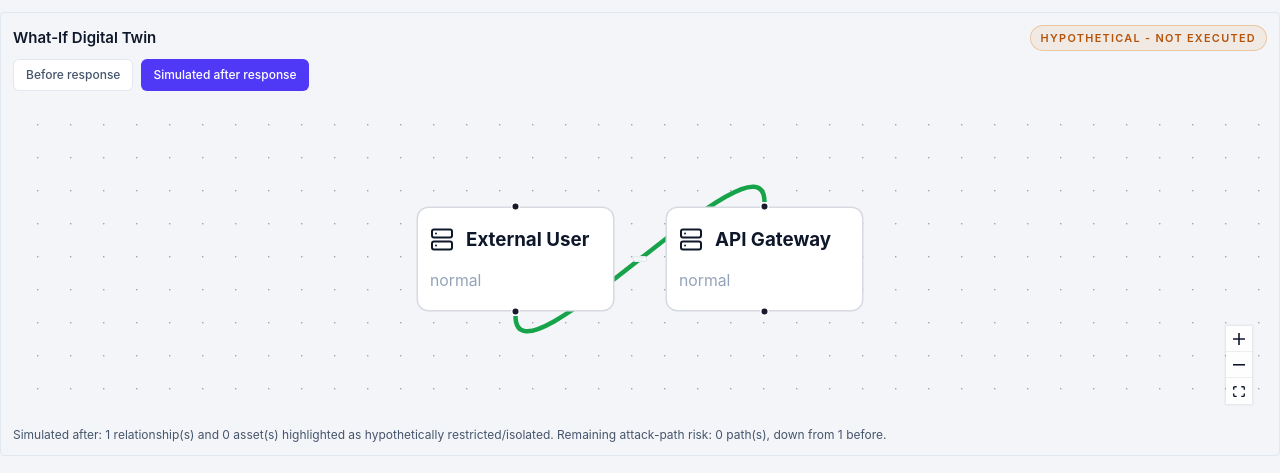
Test: What-If Digital Twin › toggles between before and simulated-after modes
The width and height of the screenshot is (1280, 473).
Click the button "Before response": (73, 75) [13,59,133,91]
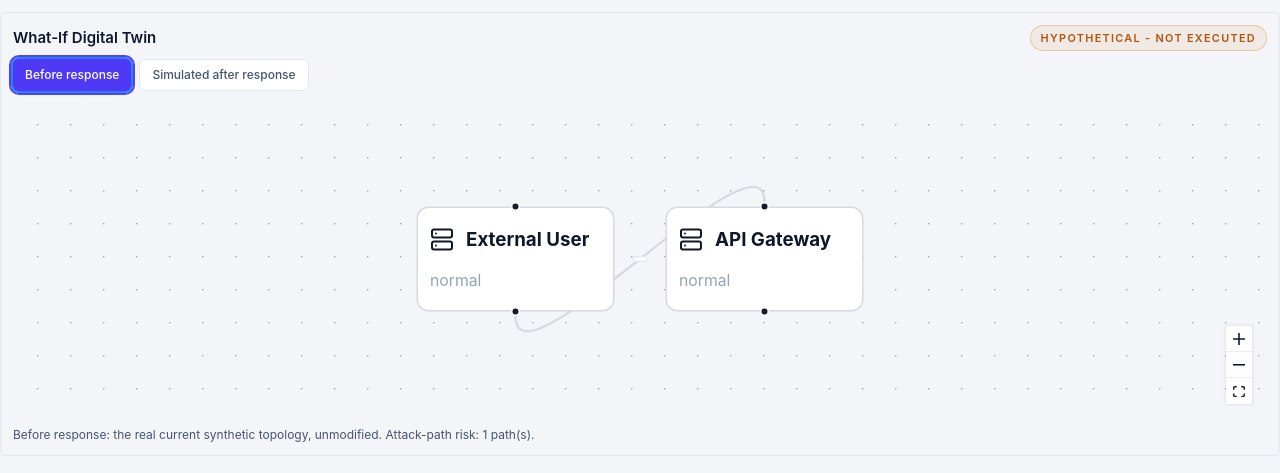
Check: the text "Before response: the real current synthetic topology" is shown, box [13,427,479,442]
Click the button "Simulated after response": (224, 75) [139,59,309,91]
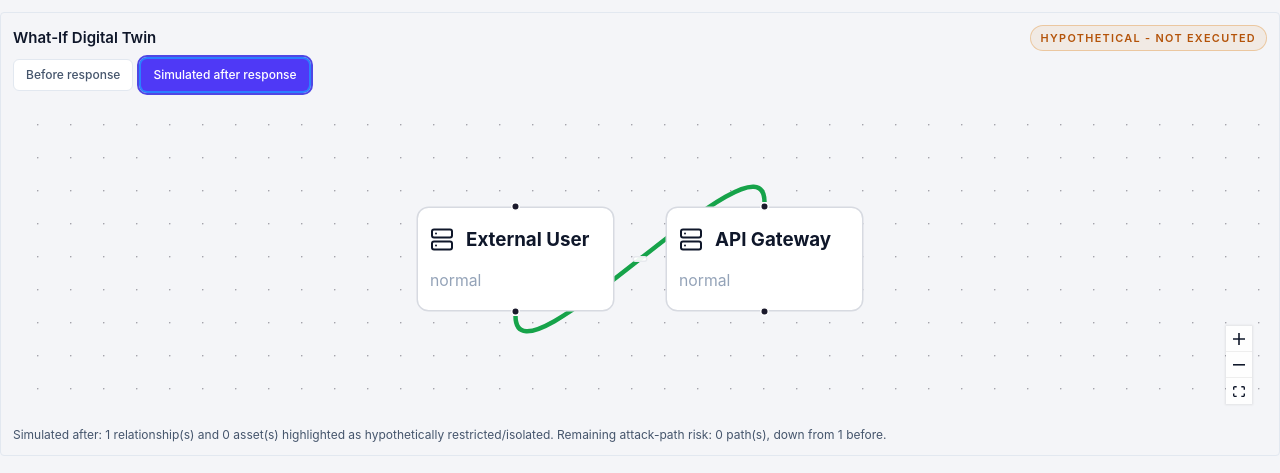
Check: the text "Simulated after: 1 relationship(s)" is shown, box [13,427,886,442]
